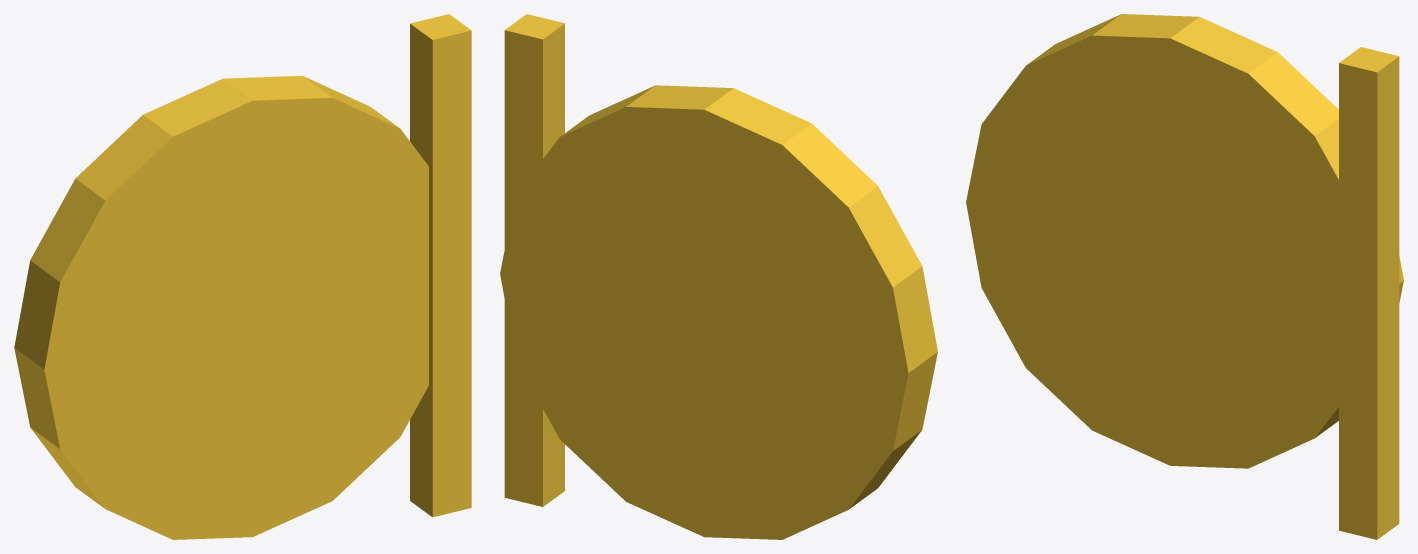
Rendered from extension_cord.glb.
The picture shows the model from 3 angles, left to right: view 1: azimuth 30°, elevation 25°; view 2: azimuth 150°, elevation 25°; view 3: azimuth 330°, elevation 25°; orthographic projection. The views are drawn at different scales.
Parts seen in each view (by area): view 1: reel_0, cable_1; view 2: reel_0, cable_1; view 3: reel_0, cable_1.
Part boxes in pixels (x1,y1,x2,y2): reel_0: [14, 75, 428, 539]; cable_1: [410, 14, 471, 517]; reel_0: [500, 85, 937, 539]; cable_1: [504, 14, 564, 506]; reel_0: [966, 14, 1403, 468]; cable_1: [1339, 47, 1399, 539].
Size of the model in its own units: 0.325 by 0.35 by 0.045.
